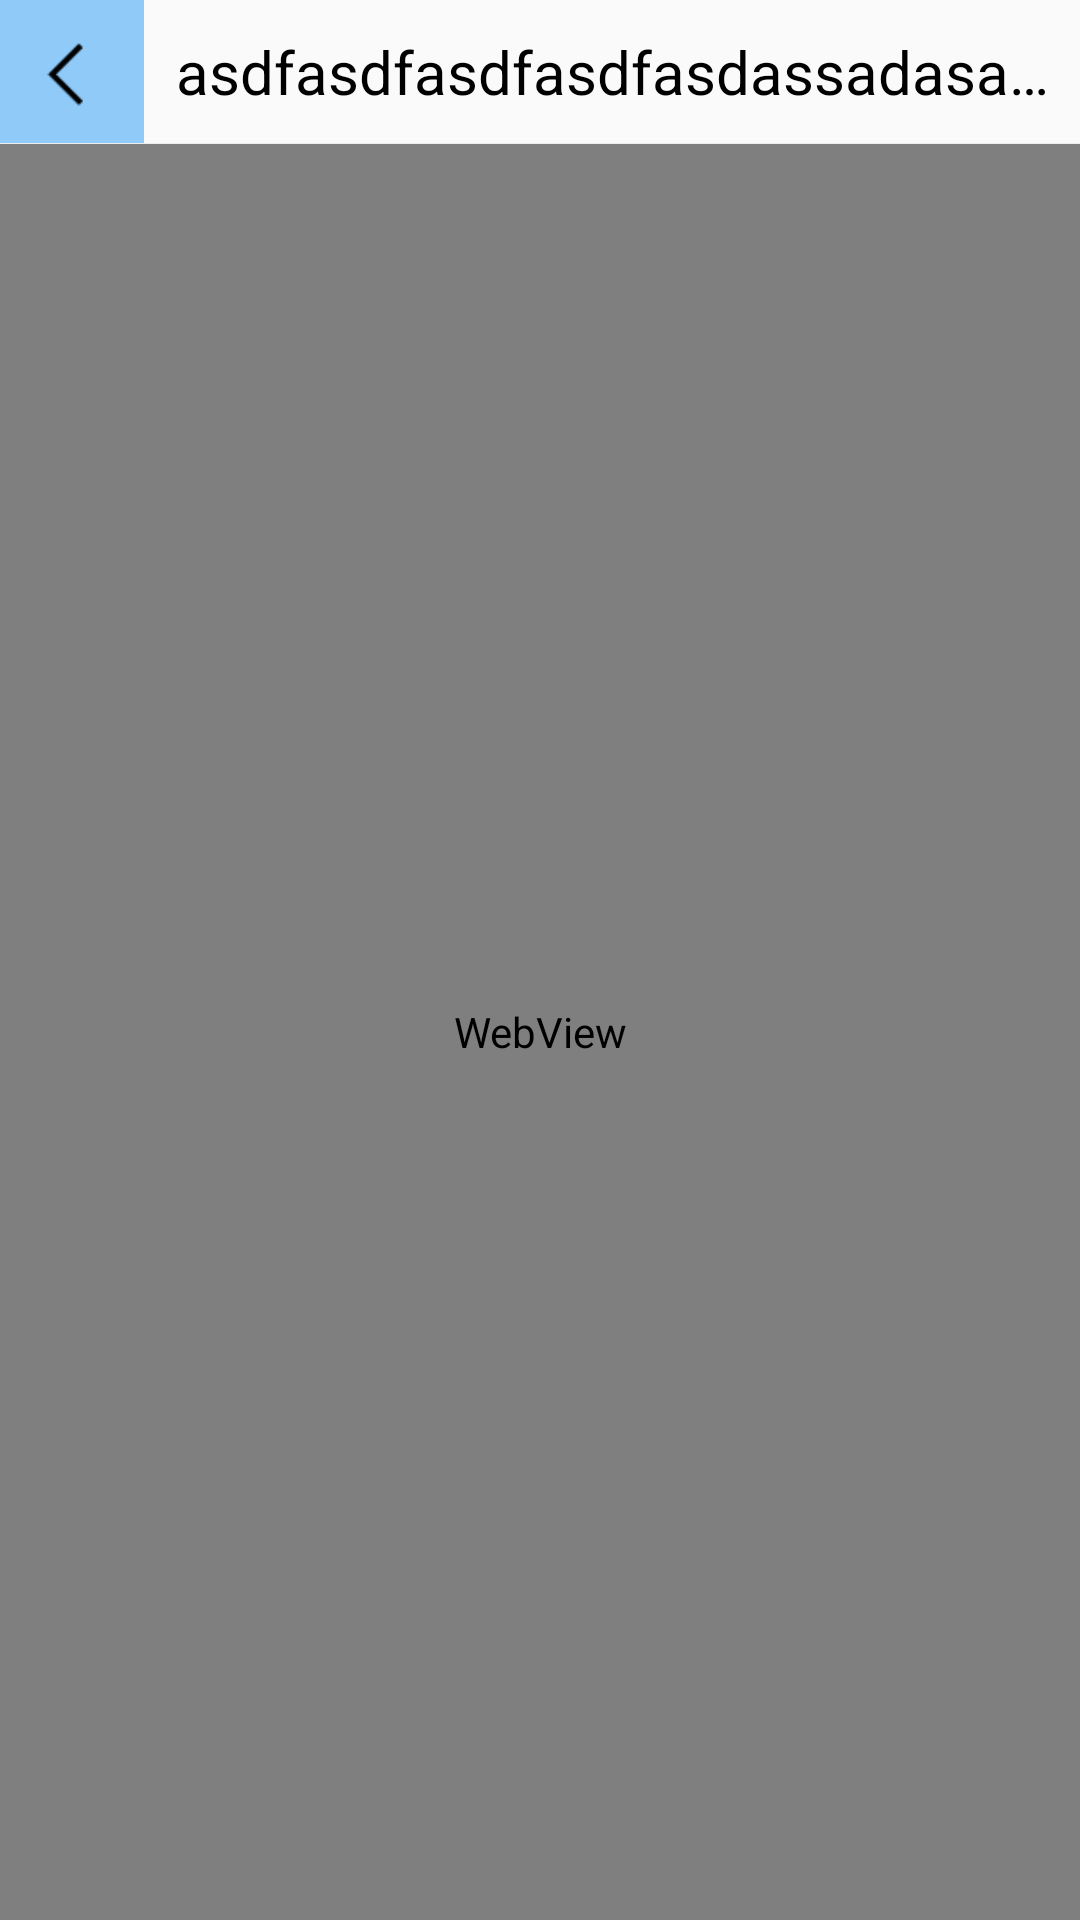

Point at icon controls on the screen. Image size 1080×1920, points as (x=x, y=y).
back: (x=72, y=72)
